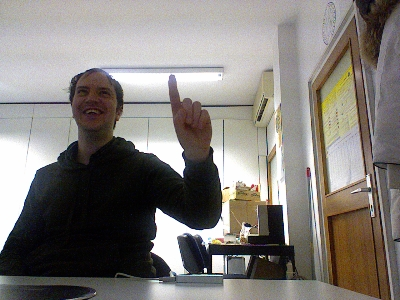食指: (167, 73, 214, 153)
